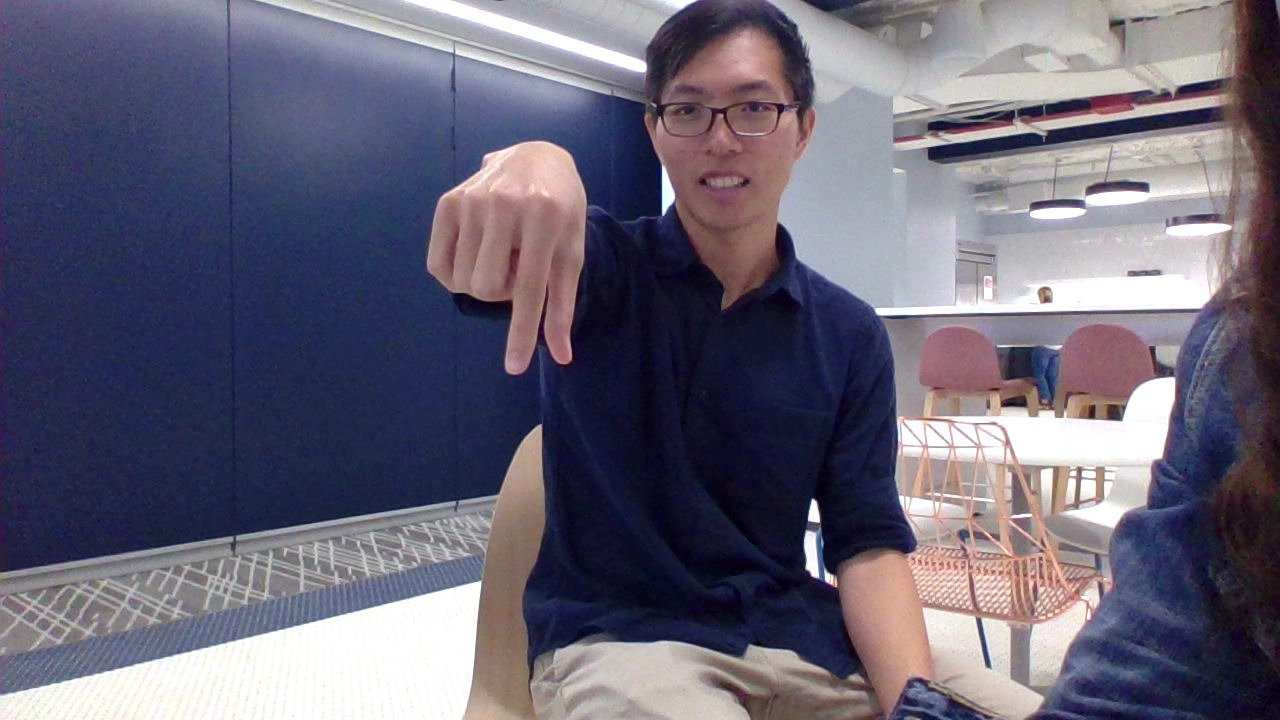q: (409, 129, 612, 394)
